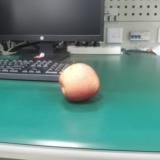apple: (58, 64, 101, 102)
